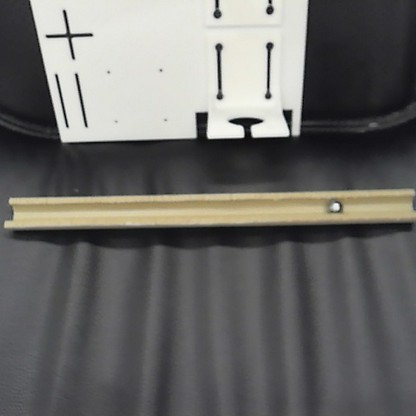ironball: (325, 196, 343, 214)
